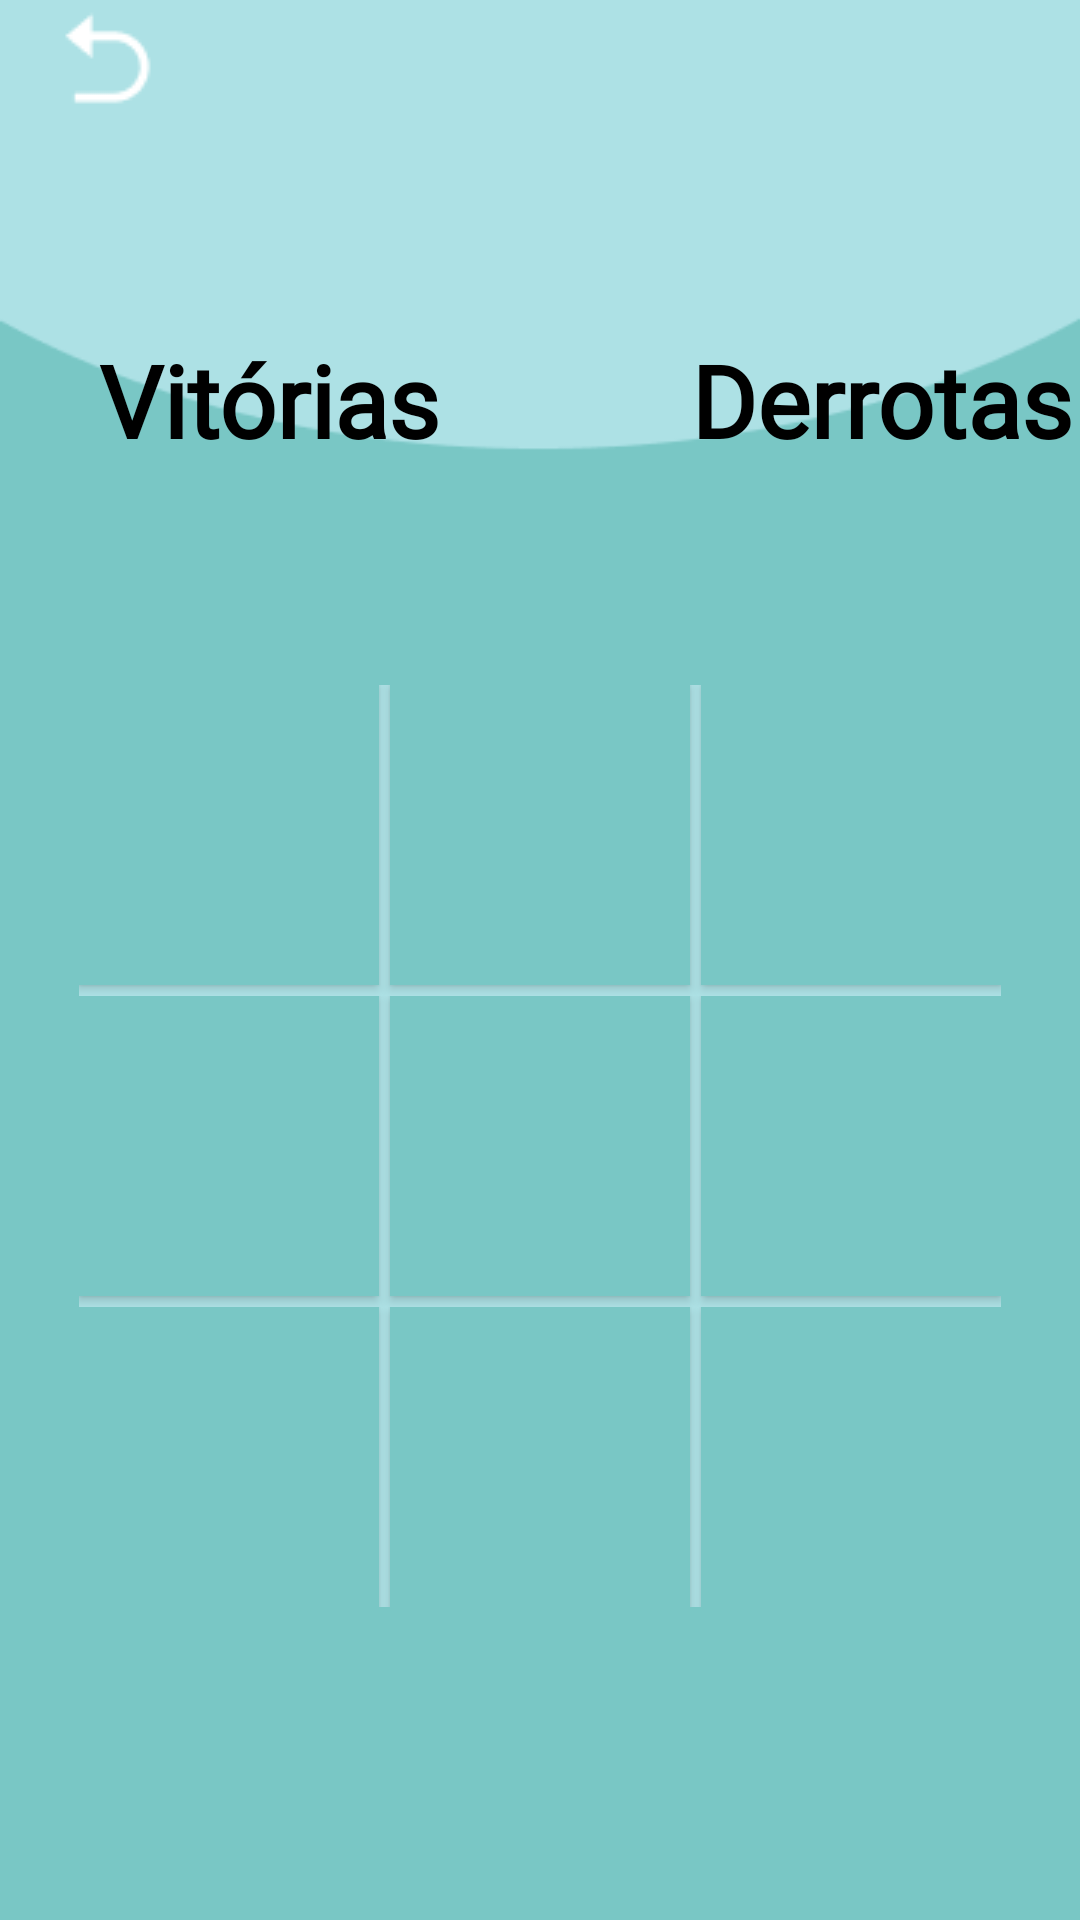

Where icons sit on this 1080w x 1920h app screen, as (left=x1, top=y1, right=x2, bottom=y2):
voltar: (left=66, top=15, right=150, bottom=103)
